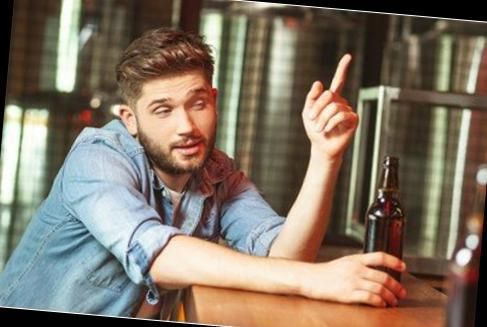Drunk: (140, 77, 213, 170)
